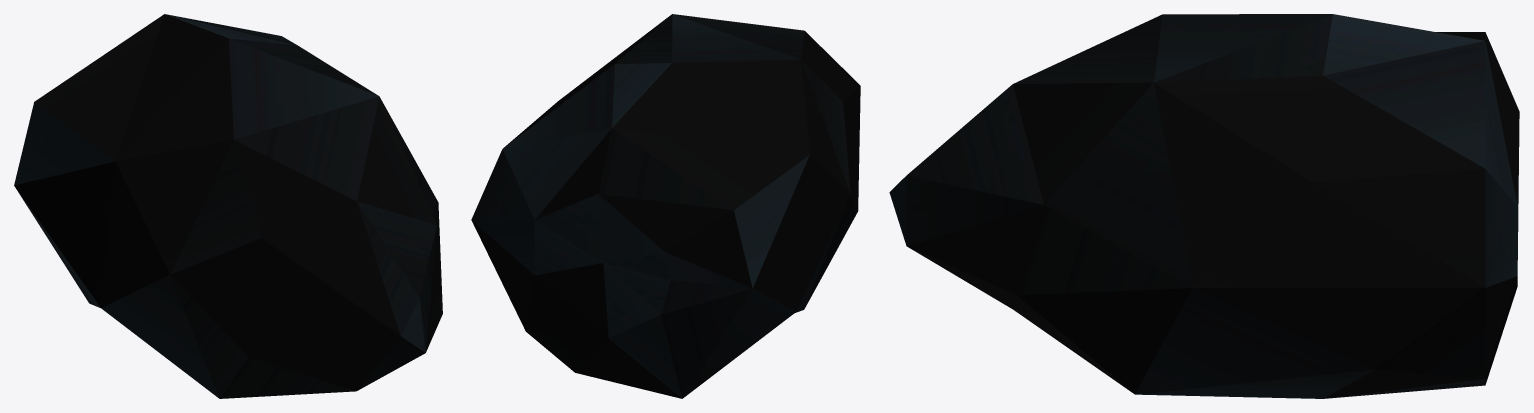
The model's file is Weapon_Bullet_Fixed.fbx.
3 renders of one model, left to right at view 1: azimuth 30°, elevation 25°; view 2: azimuth 150°, elevation 25°; view 3: azimuth 270°, elevation 25°, orthographic. The views are drawn at different scales.
Visible parts, largest first — view 1: Bullet; view 2: Bullet; view 3: Bullet.
Part boxes in pixels (x1,y1,x2,y2): Bullet: (14,14,442,398); Bullet: (471,14,860,398); Bullet: (889,14,1519,398).
Bounding box in the file's own units: 0.02 × 0.02 × 0.0306.
1 material, 1 textured.
